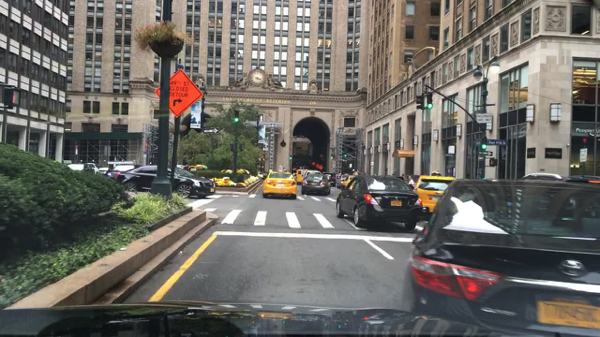car: (397, 179, 599, 336), (333, 174, 429, 230), (107, 164, 215, 198), (261, 164, 296, 199), (301, 173, 330, 195), (107, 163, 140, 179), (564, 173, 598, 184), (66, 162, 93, 175), (521, 172, 562, 180), (321, 171, 336, 187), (341, 175, 356, 190), (295, 169, 305, 186), (303, 169, 320, 179), (87, 162, 99, 174), (391, 174, 407, 183), (334, 174, 344, 187), (95, 167, 110, 175), (291, 169, 297, 179)
person: (409, 169, 455, 215), (406, 174, 415, 188)
traffic light: (2, 87, 22, 106), (425, 91, 433, 108), (415, 94, 423, 110), (480, 139, 487, 151), (234, 109, 239, 122), (476, 160, 484, 168), (228, 143, 235, 151), (238, 143, 244, 152), (488, 160, 497, 166), (330, 153, 334, 160), (289, 153, 293, 160), (343, 152, 347, 157)
traffic sign: (154, 68, 201, 115), (477, 139, 505, 145), (475, 114, 492, 121), (579, 149, 586, 162), (204, 128, 220, 133), (104, 145, 110, 155), (478, 151, 491, 154), (75, 145, 79, 154), (317, 164, 323, 170), (310, 161, 316, 166), (315, 163, 319, 169), (477, 157, 484, 160)
